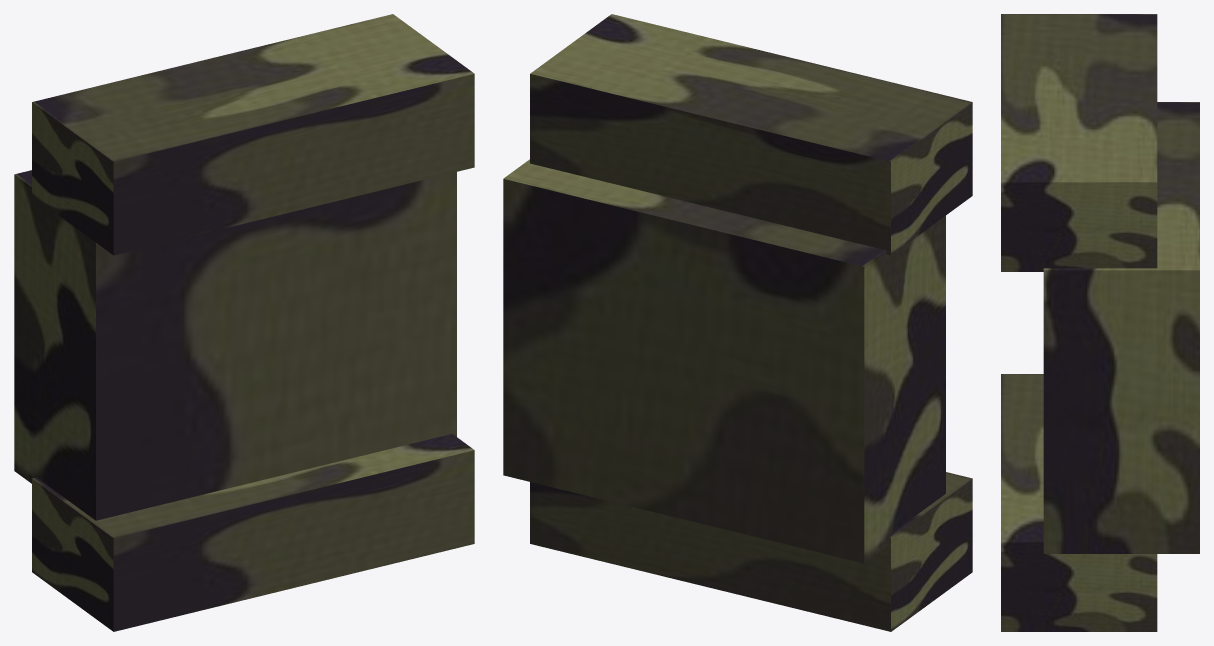
File: tank.obj
The picture shows the model from 3 angles, left to right: view 1: azimuth 30°, elevation 25°; view 2: azimuth 150°, elevation 25°; view 3: azimuth 270°, elevation 25°; orthographic projection. The views are drawn at different scales.
Visible parts, largest first — view 1: Cube.001_Cube.002; view 2: Cube.001_Cube.002; view 3: Cube.001_Cube.002.
Boxes of the visible parts, x1,y1,x2,y2 form: Cube.001_Cube.002: (14, 14, 474, 631); Cube.001_Cube.002: (503, 14, 972, 631); Cube.001_Cube.002: (1001, 14, 1199, 631).
Bounding box in the file's own units: 0.4881 × 0.5997 × 0.2404.
Materials: 1 (1 with a texture image).
